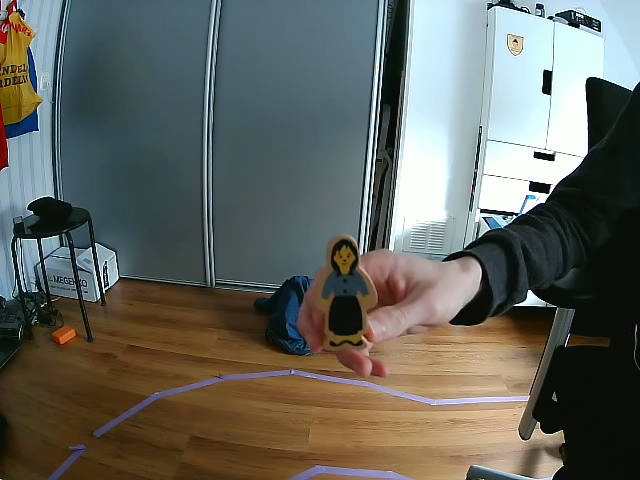mens: (312, 232, 378, 351)
